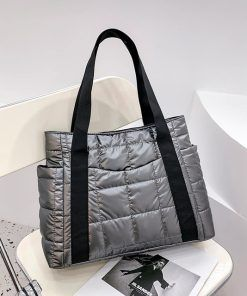nylon: (37, 29, 216, 270)
